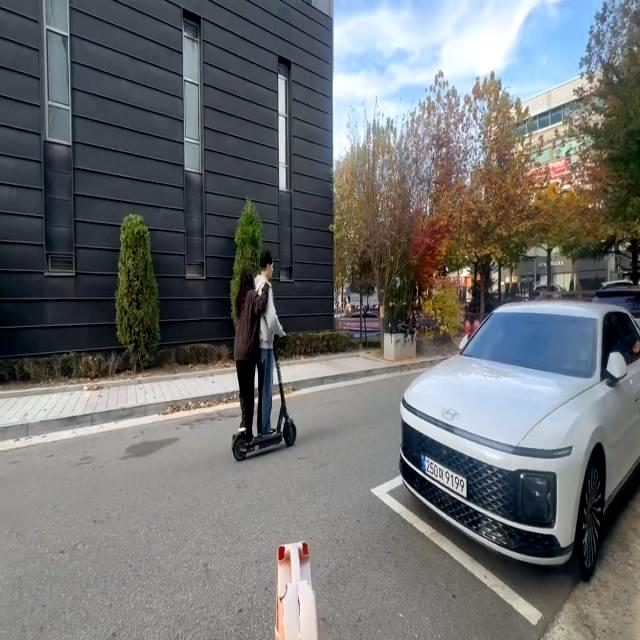bare_head: (230, 266, 258, 293), (255, 253, 277, 280)
human: (225, 266, 259, 440), (249, 250, 281, 434)
kickboard: (220, 413, 300, 468)
